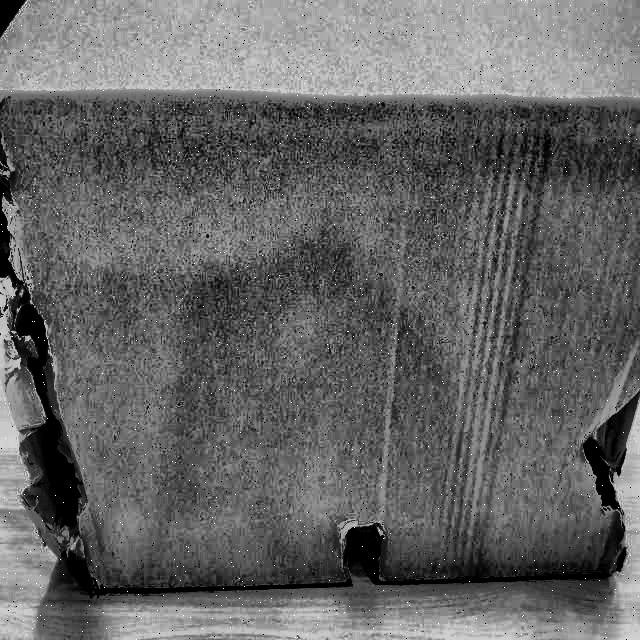box: (0, 0, 639, 606)
hole: (0, 186, 94, 563), (579, 395, 639, 553), (331, 511, 405, 589)
